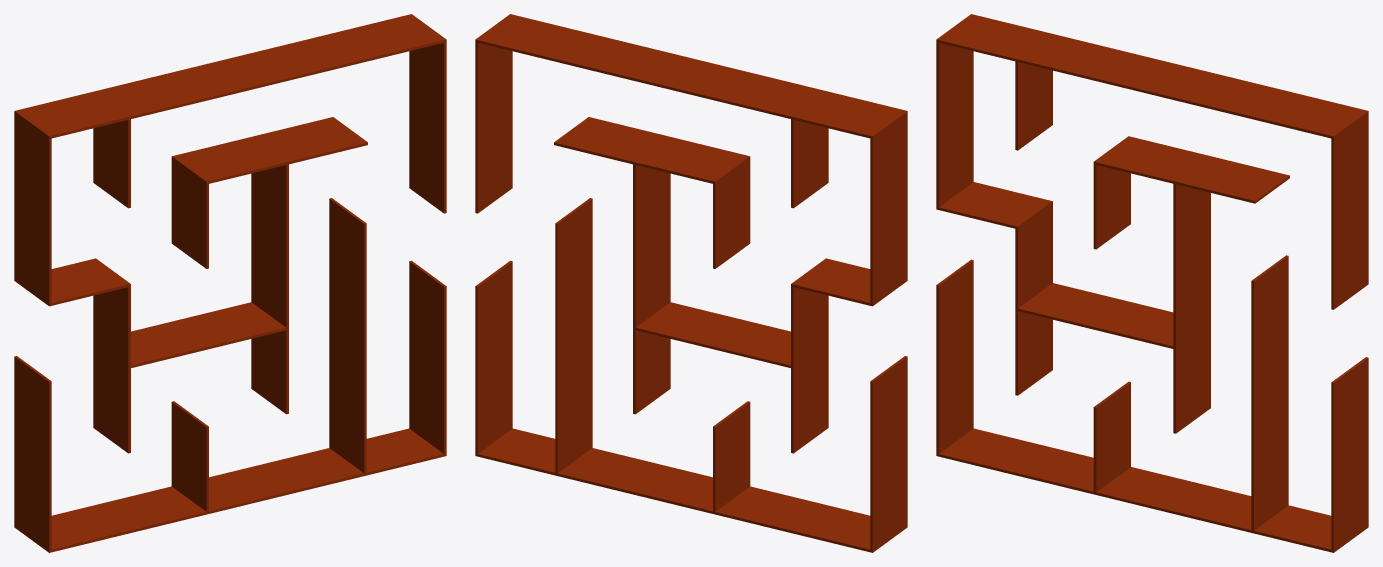
Rendered from PB_Level-01.fbx.
The picture shows the model from 3 angles, left to right: view 1: azimuth 30°, elevation 25°; view 2: azimuth 150°, elevation 25°; view 3: azimuth 330°, elevation 25°; orthographic projection.
Visible parts, largest first — view 1: Level-1_Shape; view 2: Level-1_Shape; view 3: Level-1_Shape.
Part boxes in pixels (x1=…): Level-1_Shape: x1=14, y1=14, x2=446, y2=552; Level-1_Shape: x1=475, y1=14, x2=907, y2=552; Level-1_Shape: x1=936, y1=14, x2=1368, y2=552.
Size of the model in its own units: 7886 by 7899 by 1200.
